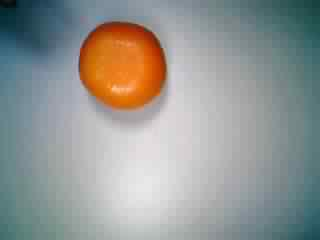orange: (69, 18, 170, 113)
